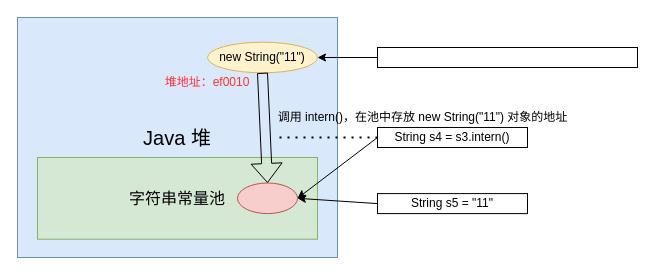
The diagram is 655 pixels wide and 280 high, and some of its shapes have lost their labels. Each missing label, with the centre of its shape:
ef0010: point (267, 198)
String s3 = new String（"1") + new String（"1"): point (507, 57)
